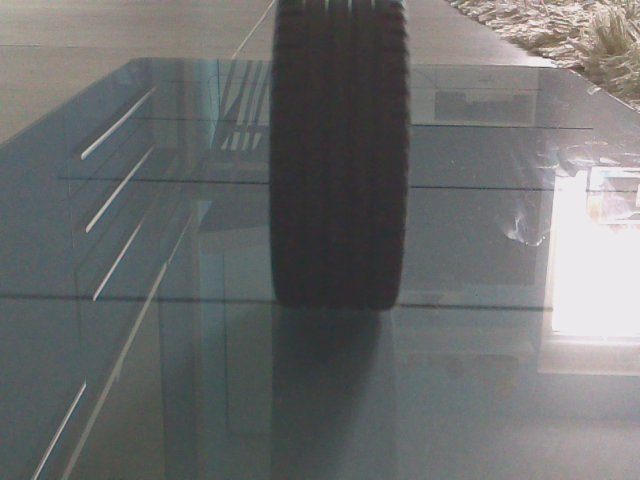Rad: (264, 4, 411, 321)
